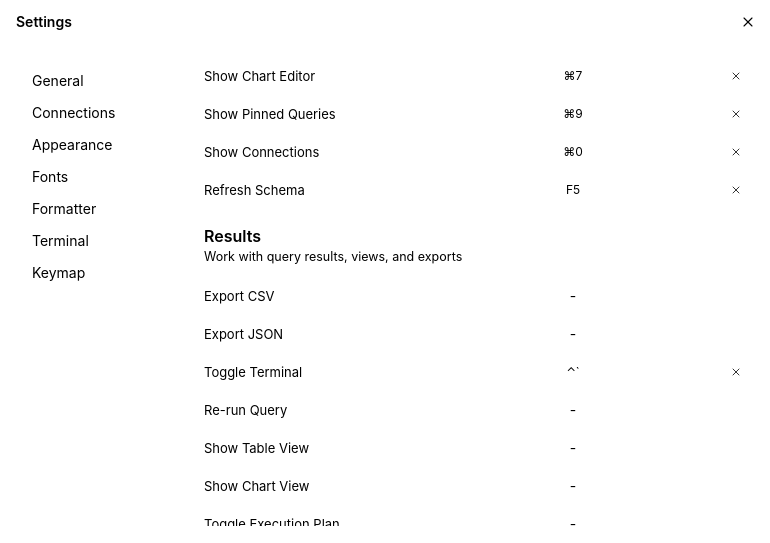
Scenario: SettingsView Keymap pane › records shortcuts from window keydown while focus is elsewhere
(page scrolled)
Click the button with test id "keymap-shortcut-exportCsv" at (573, 296), box [468, 280, 678, 314]
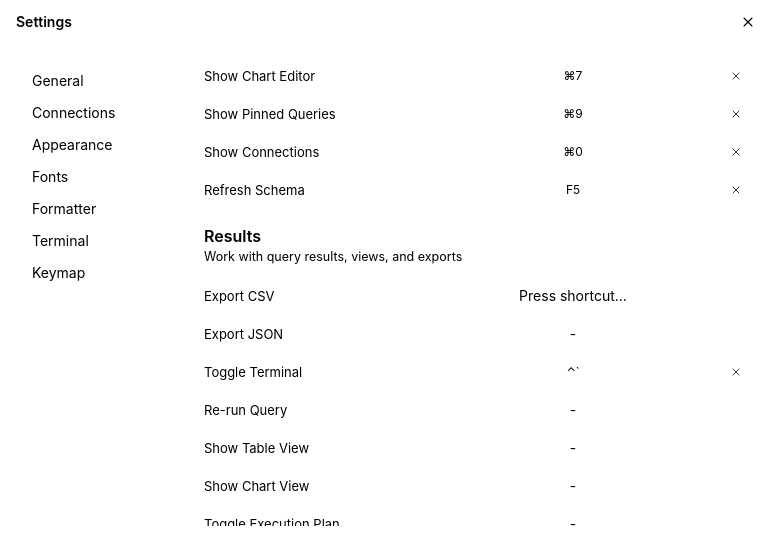
Expected: the button with test id "keymap-shortcut-exportCsv" reads "Press shortcut...", [468, 280, 678, 314]
Press j
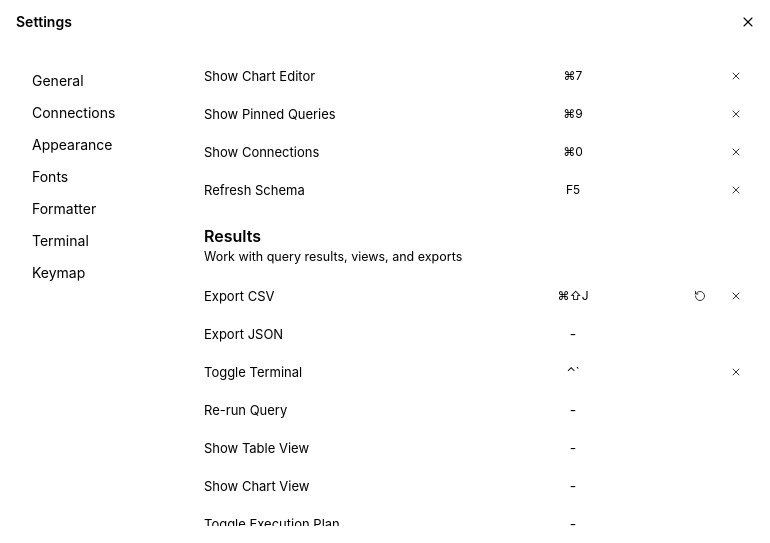
Expected: the button with test id "keymap-shortcut-exportCsv" reads "⌘⇧J", [468, 280, 678, 314]
